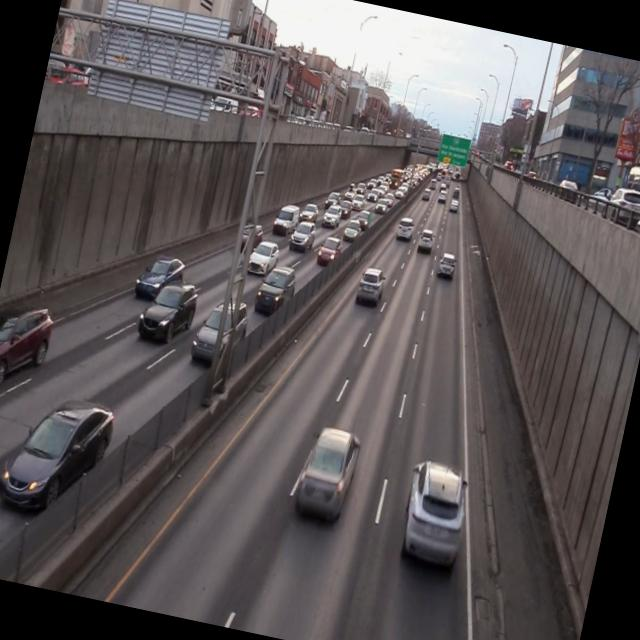Vehicle: (0, 382, 121, 533), (392, 452, 478, 572), (290, 419, 368, 532), (0, 289, 64, 412), (132, 272, 206, 357), (186, 292, 253, 378), (248, 256, 304, 322), (132, 246, 187, 308), (352, 262, 392, 312), (243, 236, 281, 282), (313, 231, 346, 273), (432, 246, 459, 286), (412, 226, 438, 258)
